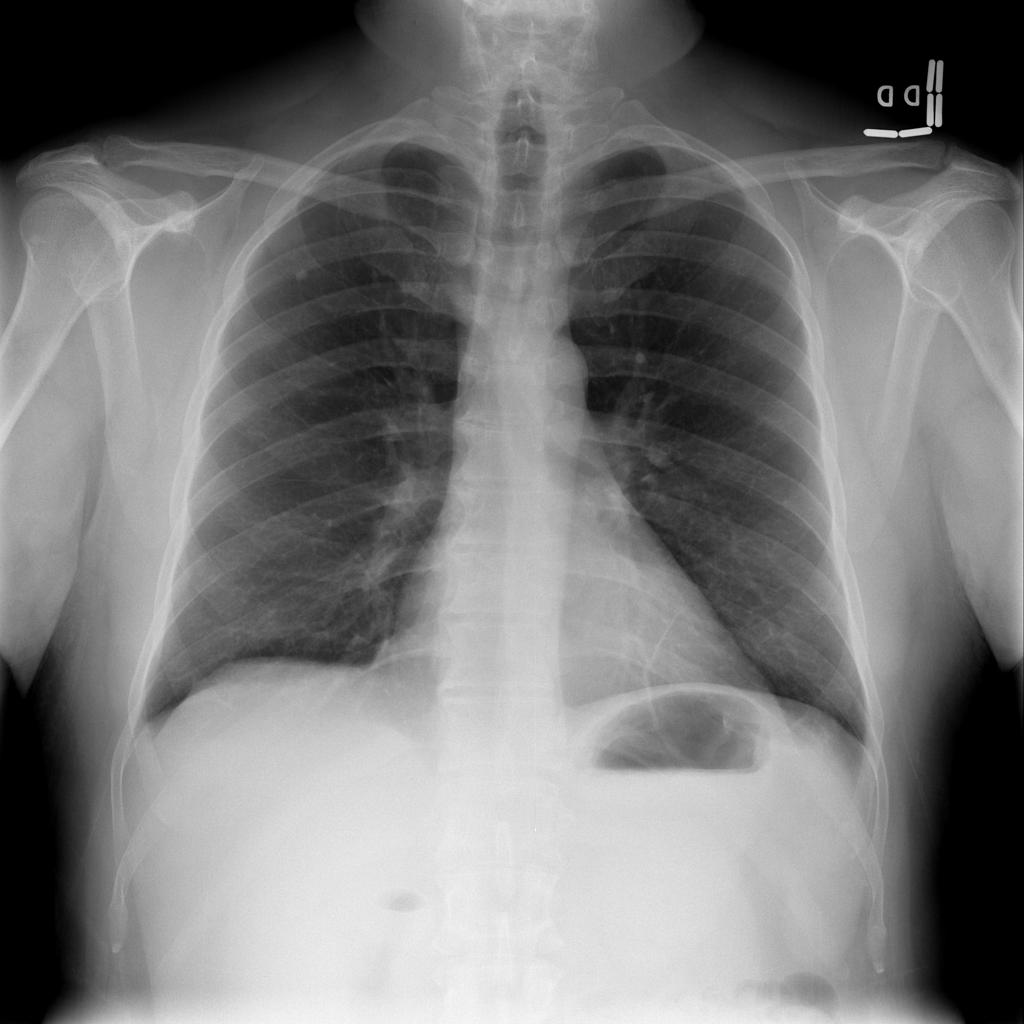nodule: (277, 245, 328, 294)
